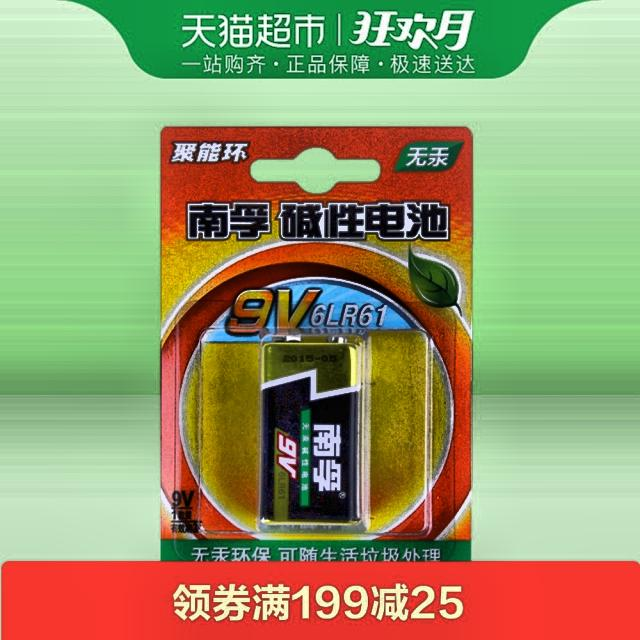Non-Valuable Waste - Batteries: (260, 334, 366, 529)
